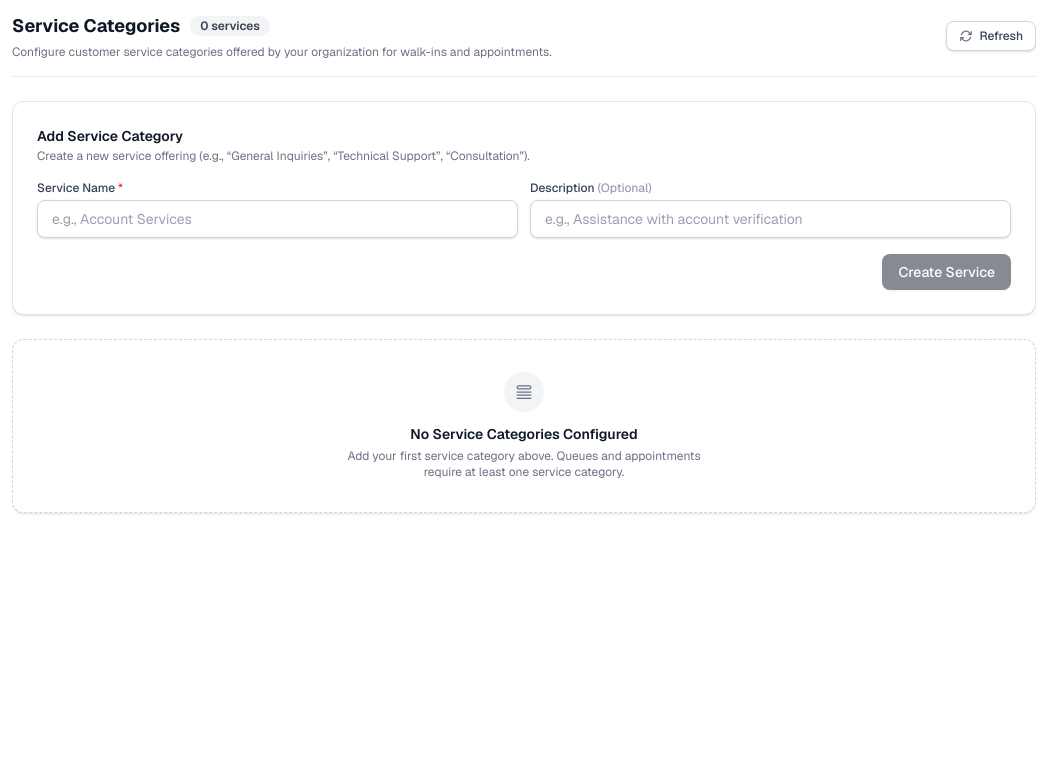
Test: components/admin/ServiceManagement › Service creation form › submits the new service without description when description is empty
The image size is (1048, 780).
Expected: the heading "No Service Categories Configured" is shown, [410,425,638,443]
In the field with placeholder "e.g., Account Services": coordinates (278, 219) [37,200,518,238], type "Pediatrics"
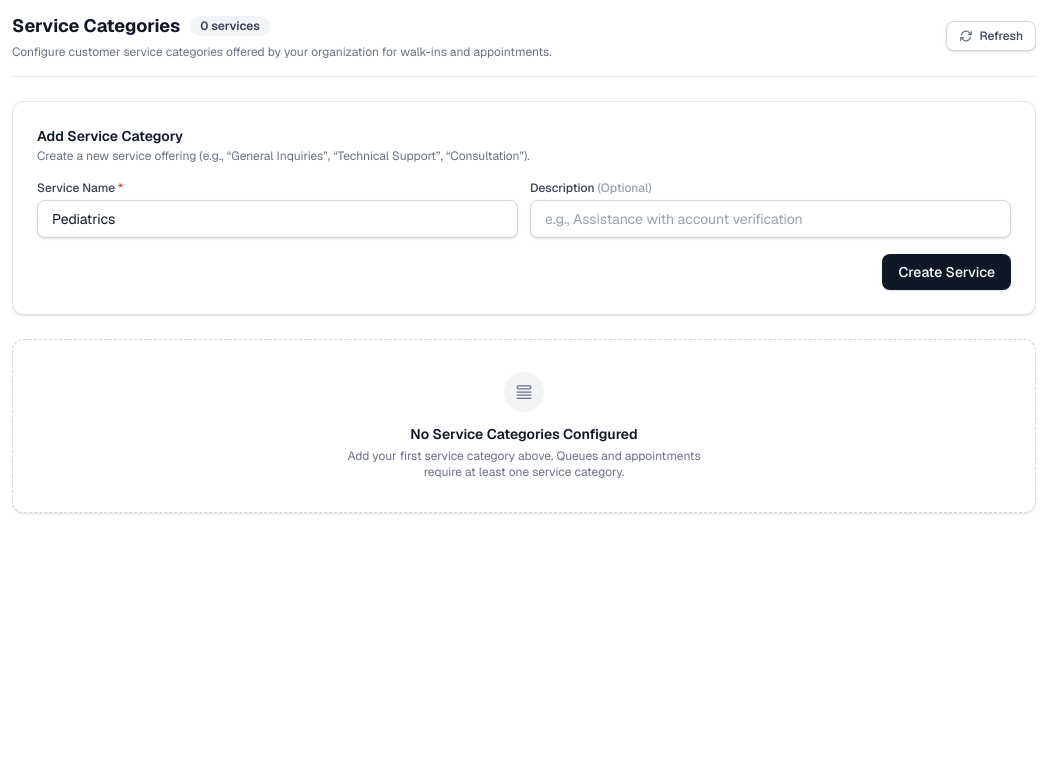
Click the button "Create Service": coordinates (947, 272) [882,254,1011,290]
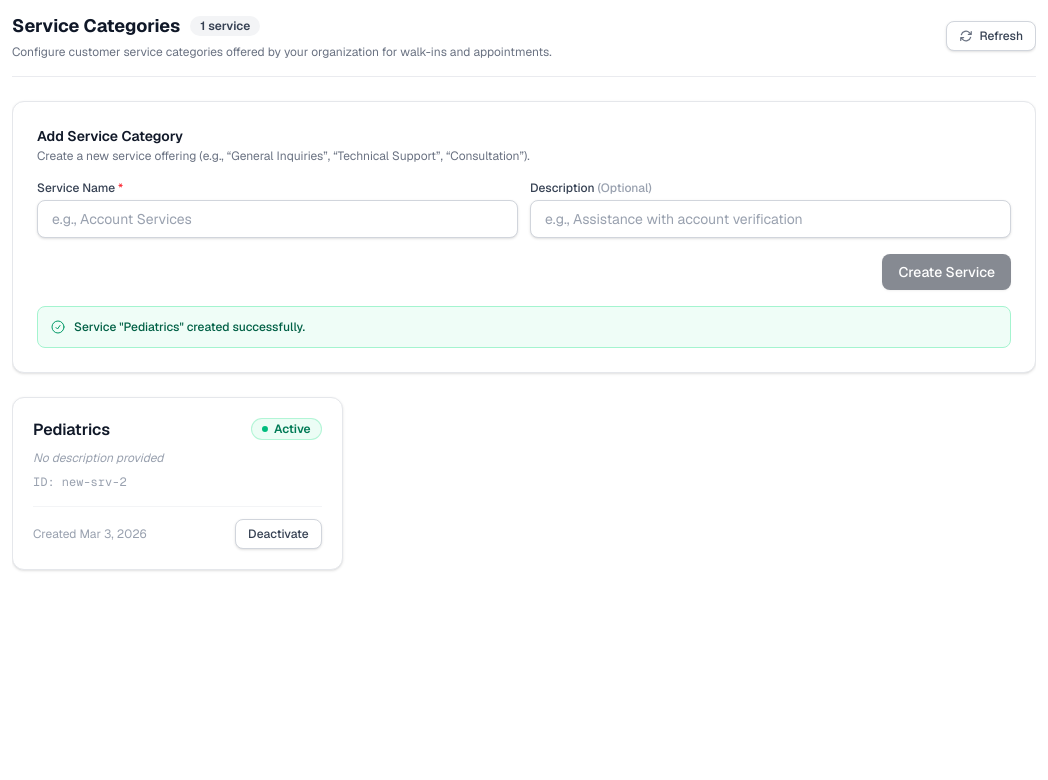
Expected: the text "Service \"Pediatrics\" created successfully." is shown, [74,319,305,335]
